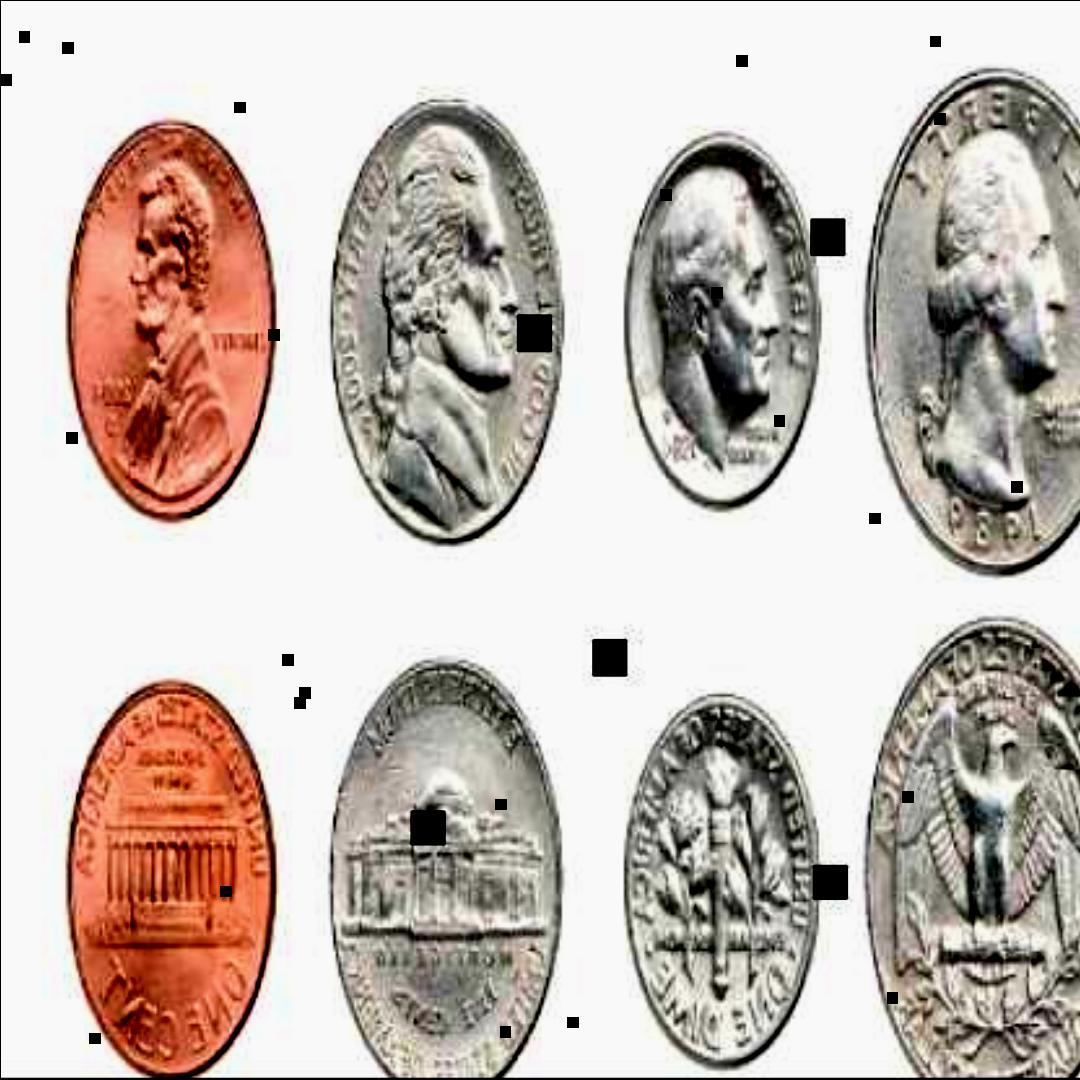Dime: (621, 122, 823, 522), (621, 686, 823, 1080)
Nickel: (322, 644, 572, 1080), (323, 100, 567, 546)
Penny: (52, 676, 280, 1080), (61, 107, 273, 532)
Quarter: (861, 58, 1079, 592), (856, 618, 1080, 1080)
